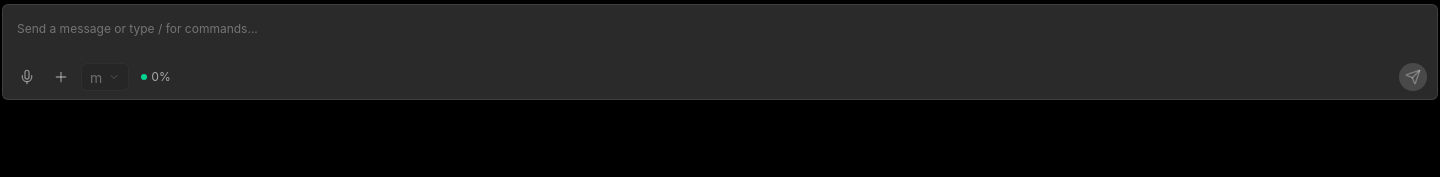
Test case: AgentInput 文件提及面板唤起 › 输入 @ 时应该在提及面板中展示 Skill 项并带有 Skill 标签
Focus the field with class "cm-content": (137, 28) [17,21,258,36]
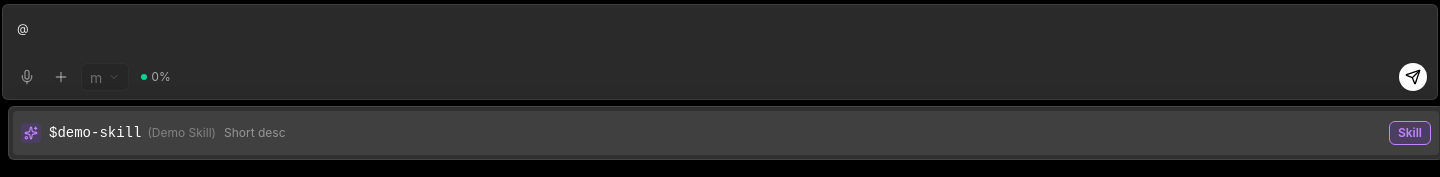
Expected: the option "$demo-skill (Demo Skill) Short desc Skill" is shown, [13,111,1439,155]
